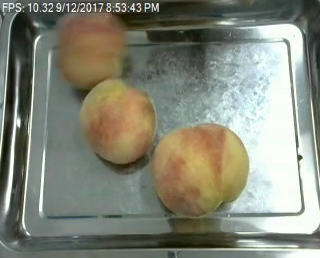Peach: (151, 122, 249, 217), (79, 78, 159, 165), (57, 6, 124, 90)
